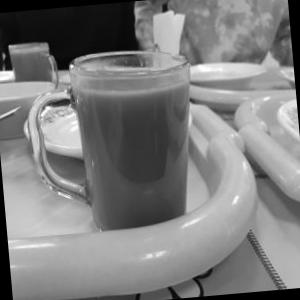coffee: (39, 34, 218, 242), (2, 30, 64, 116)
